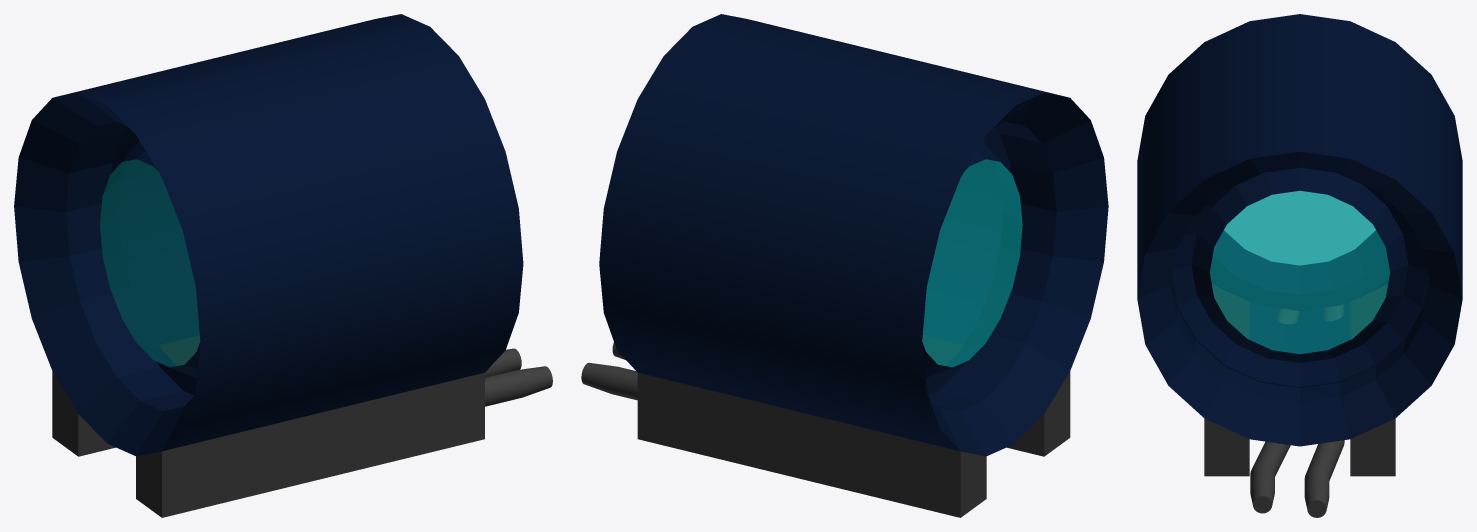
File: Generator_01.fbx
3 views of the same model, side by side, from view 1: azimuth 30°, elevation 25°; view 2: azimuth 150°, elevation 25°; view 3: azimuth 270°, elevation 25° (orthographic). The views are drawn at different scales.
Visible parts, largest first — view 1: polySurface4, polySurface3, polySurface5, polySurface1, pCylinder3, pCylinder4; view 2: polySurface4, polySurface1, polySurface5, polySurface3, pCylinder4; view 3: polySurface4, polySurface6, polySurface5, polySurface1, polySurface3, pCylinder4, pCylinder3.
Part boxes in pixels (x1,y1,x2,y2): polySurface4: (14,14,523,456); polySurface3: (136,372,484,517); polySurface5: (100,159,200,367); polySurface1: (52,335,199,456); pCylinder3: (485,366,552,406); pCylinder4: (485,348,521,377); polySurface4: (599,14,1108,456); polySurface1: (637,373,986,517); polySurface5: (922,159,1022,367); polySurface3: (922,335,1070,456); pCylinder4: (581,362,637,400); polySurface4: (1137,14,1462,446); polySurface6: (1209,191,1390,354); polySurface5: (1224,191,1375,265); polySurface1: (1350,284,1395,476); polySurface3: (1204,284,1249,476); pCylinder4: (1304,304,1344,517); pCylinder3: (1250,308,1299,513).
Size of the model in its own units: 12.39 by 10.63 by 9.56.
